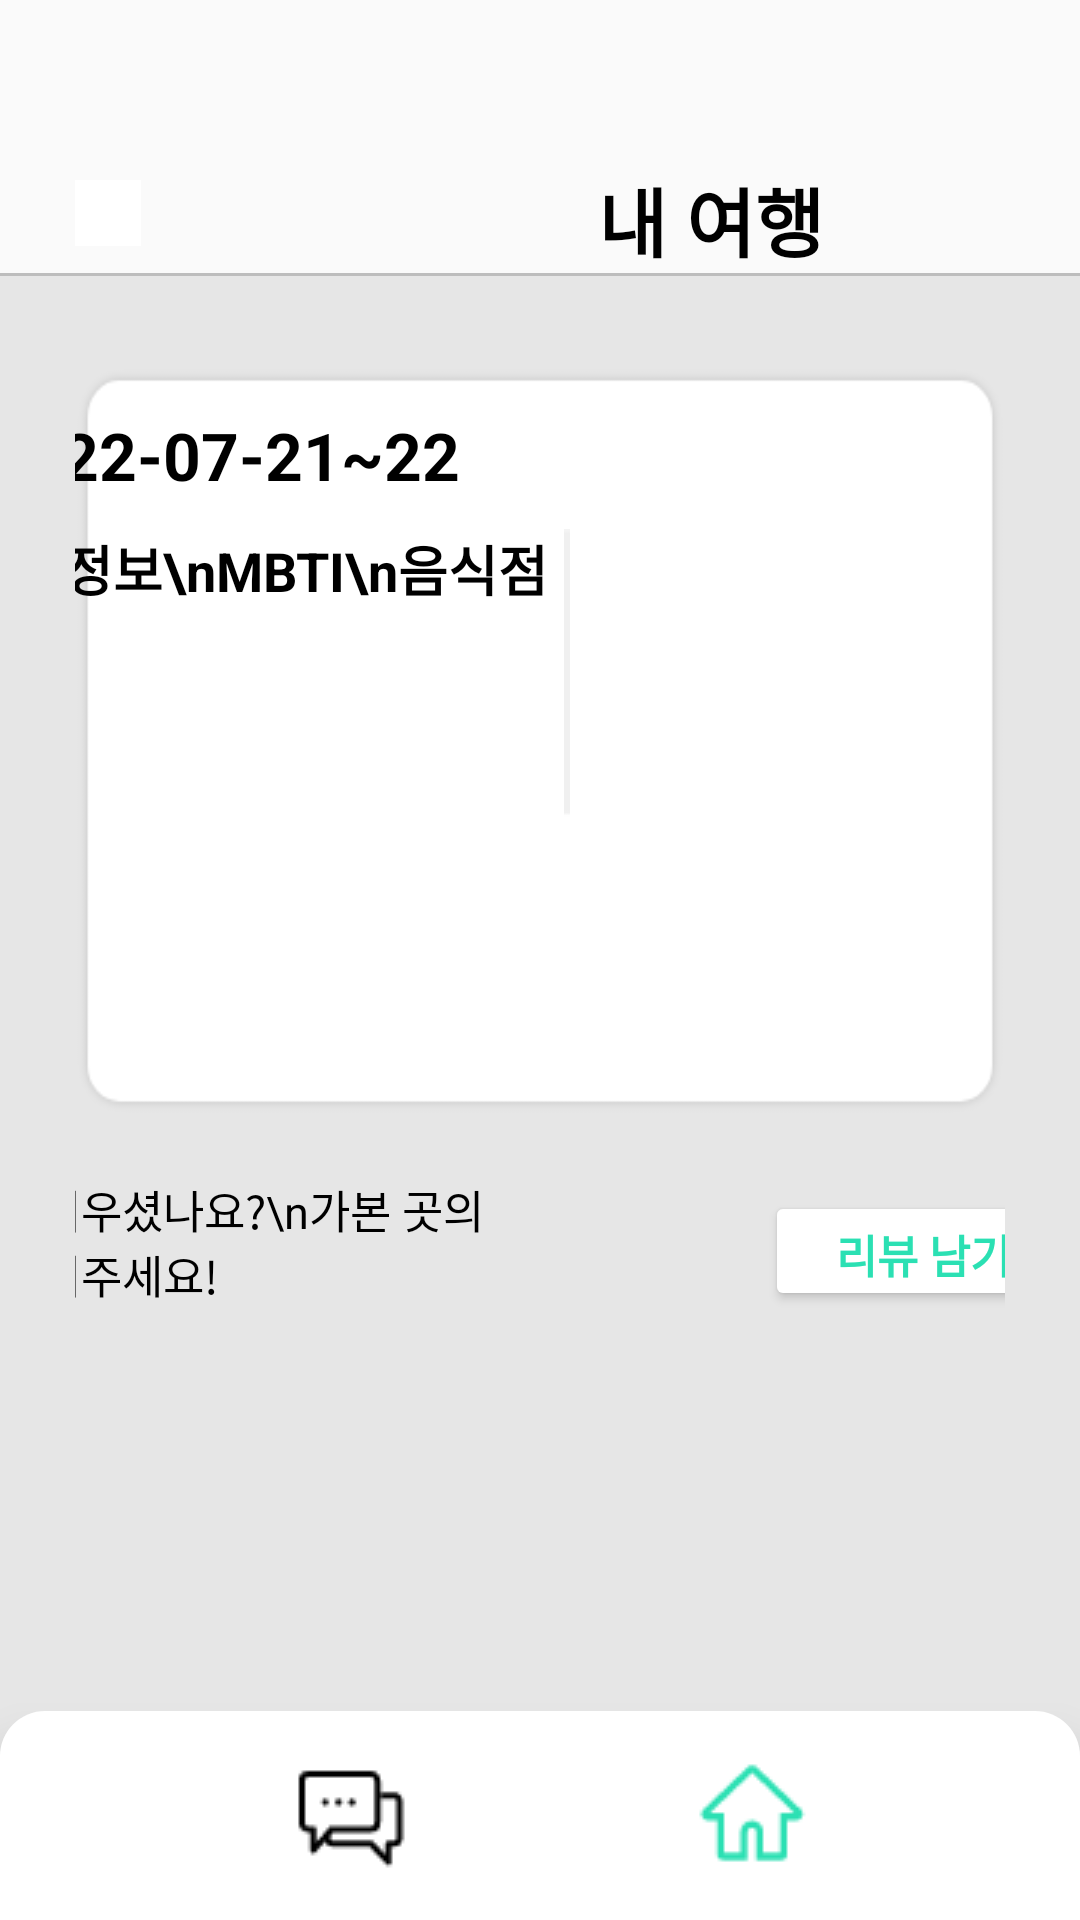

Named icons in this screenshot (1080 x 1920) and their bounding boxes, bbox=(x1, y1, x2, y2):
chatting off: bbox=(298, 1770, 405, 1867)
home on: bbox=(699, 1764, 805, 1862)
